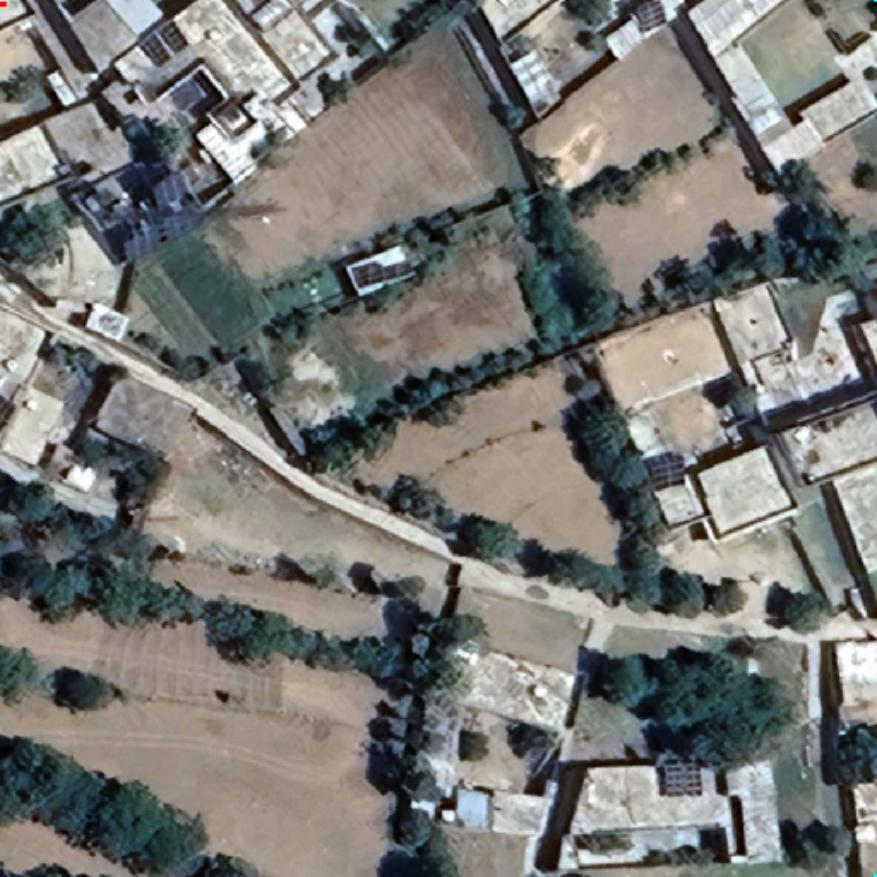Solarpanel: (348, 257, 413, 290), (642, 448, 690, 492), (662, 762, 704, 798), (137, 31, 173, 67), (156, 18, 190, 54), (634, 1, 668, 31)
